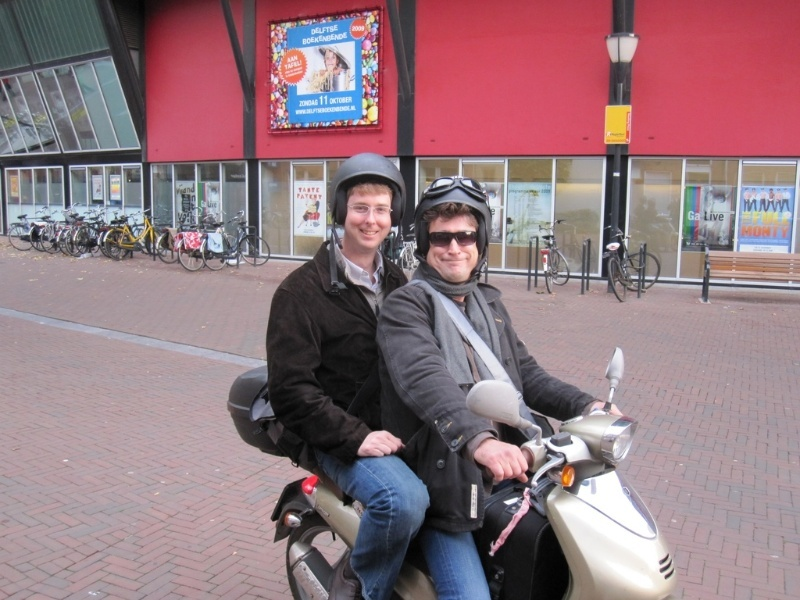Baret: (329, 152, 407, 204)
